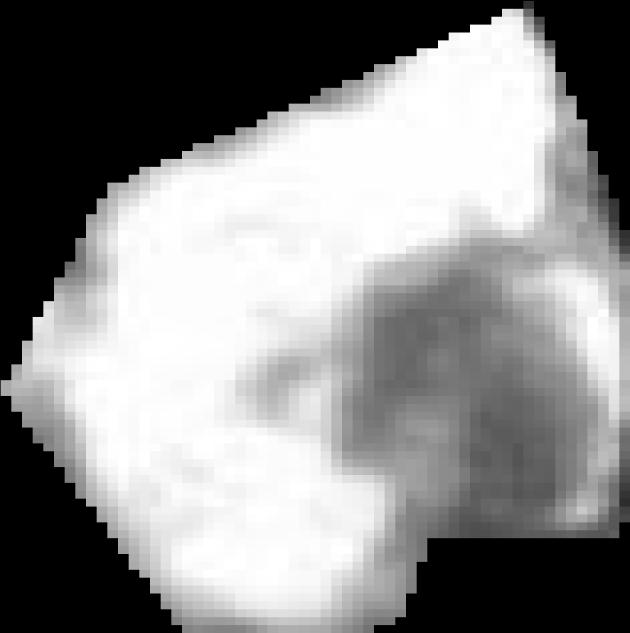tumor_good_chance: (1, 1, 630, 633)
